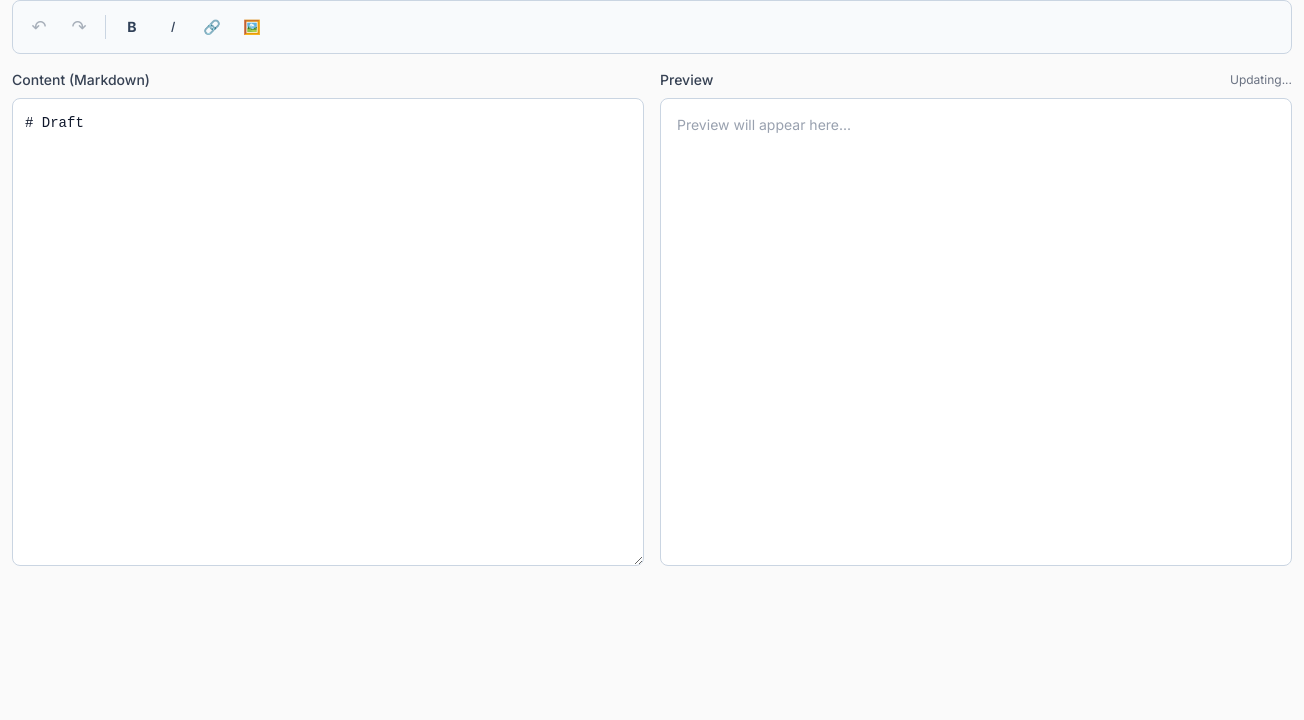
Test case: MarkdownEditor › clears the loading state when content is cleared during preview
Check: the text "Updating..." is shown, box [1230, 72, 1292, 88]
Clear the text box labelled "Content (Markdown)": (328, 332) [12, 98, 644, 566]
Wait 500 ms
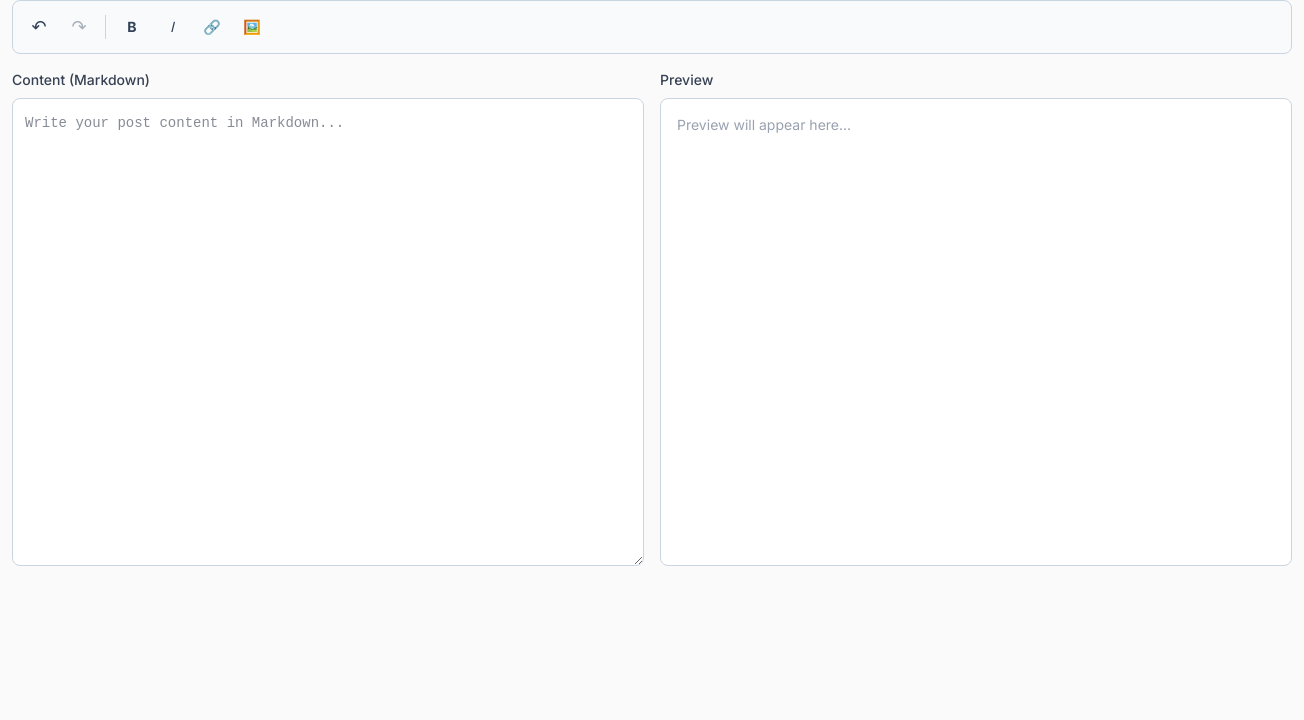
Check: the text "Updating..." is gone
